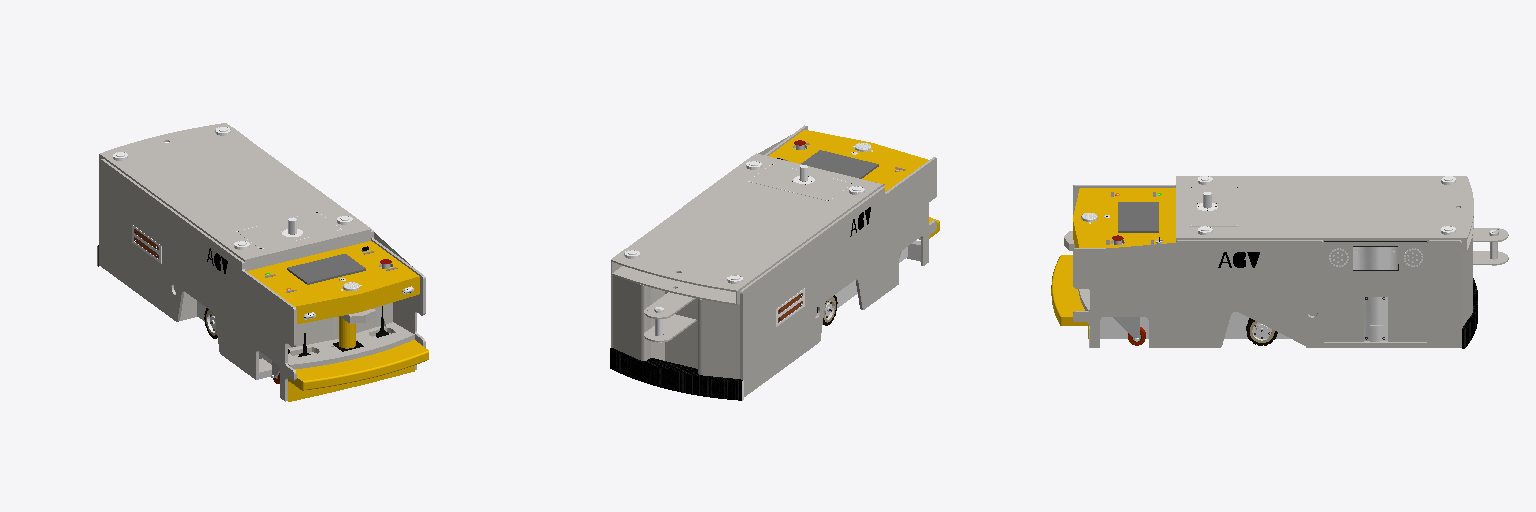
3 renders of one model, left to right at view 1: azimuth 30°, elevation 25°; view 2: azimuth 150°, elevation 25°; view 3: azimuth 270°, elevation 25°, orthographic.
Parts seen in each view (by area): view 1: AGV; view 2: AGV; view 3: AGV.
Part boxes in pixels (x1,y1,x2,y2): AGV: (97,123,428,401); AGV: (610,125,939,400); AGV: (1051,176,1508,348).
Size of the model in its own units: 0.42 by 0.3789 by 1.25.
30 materials, 7 textured.